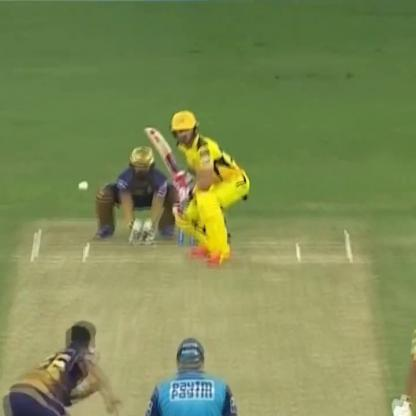ball: (74, 176, 91, 196)
bat: (142, 122, 196, 198)
pitch: (0, 210, 410, 416)
